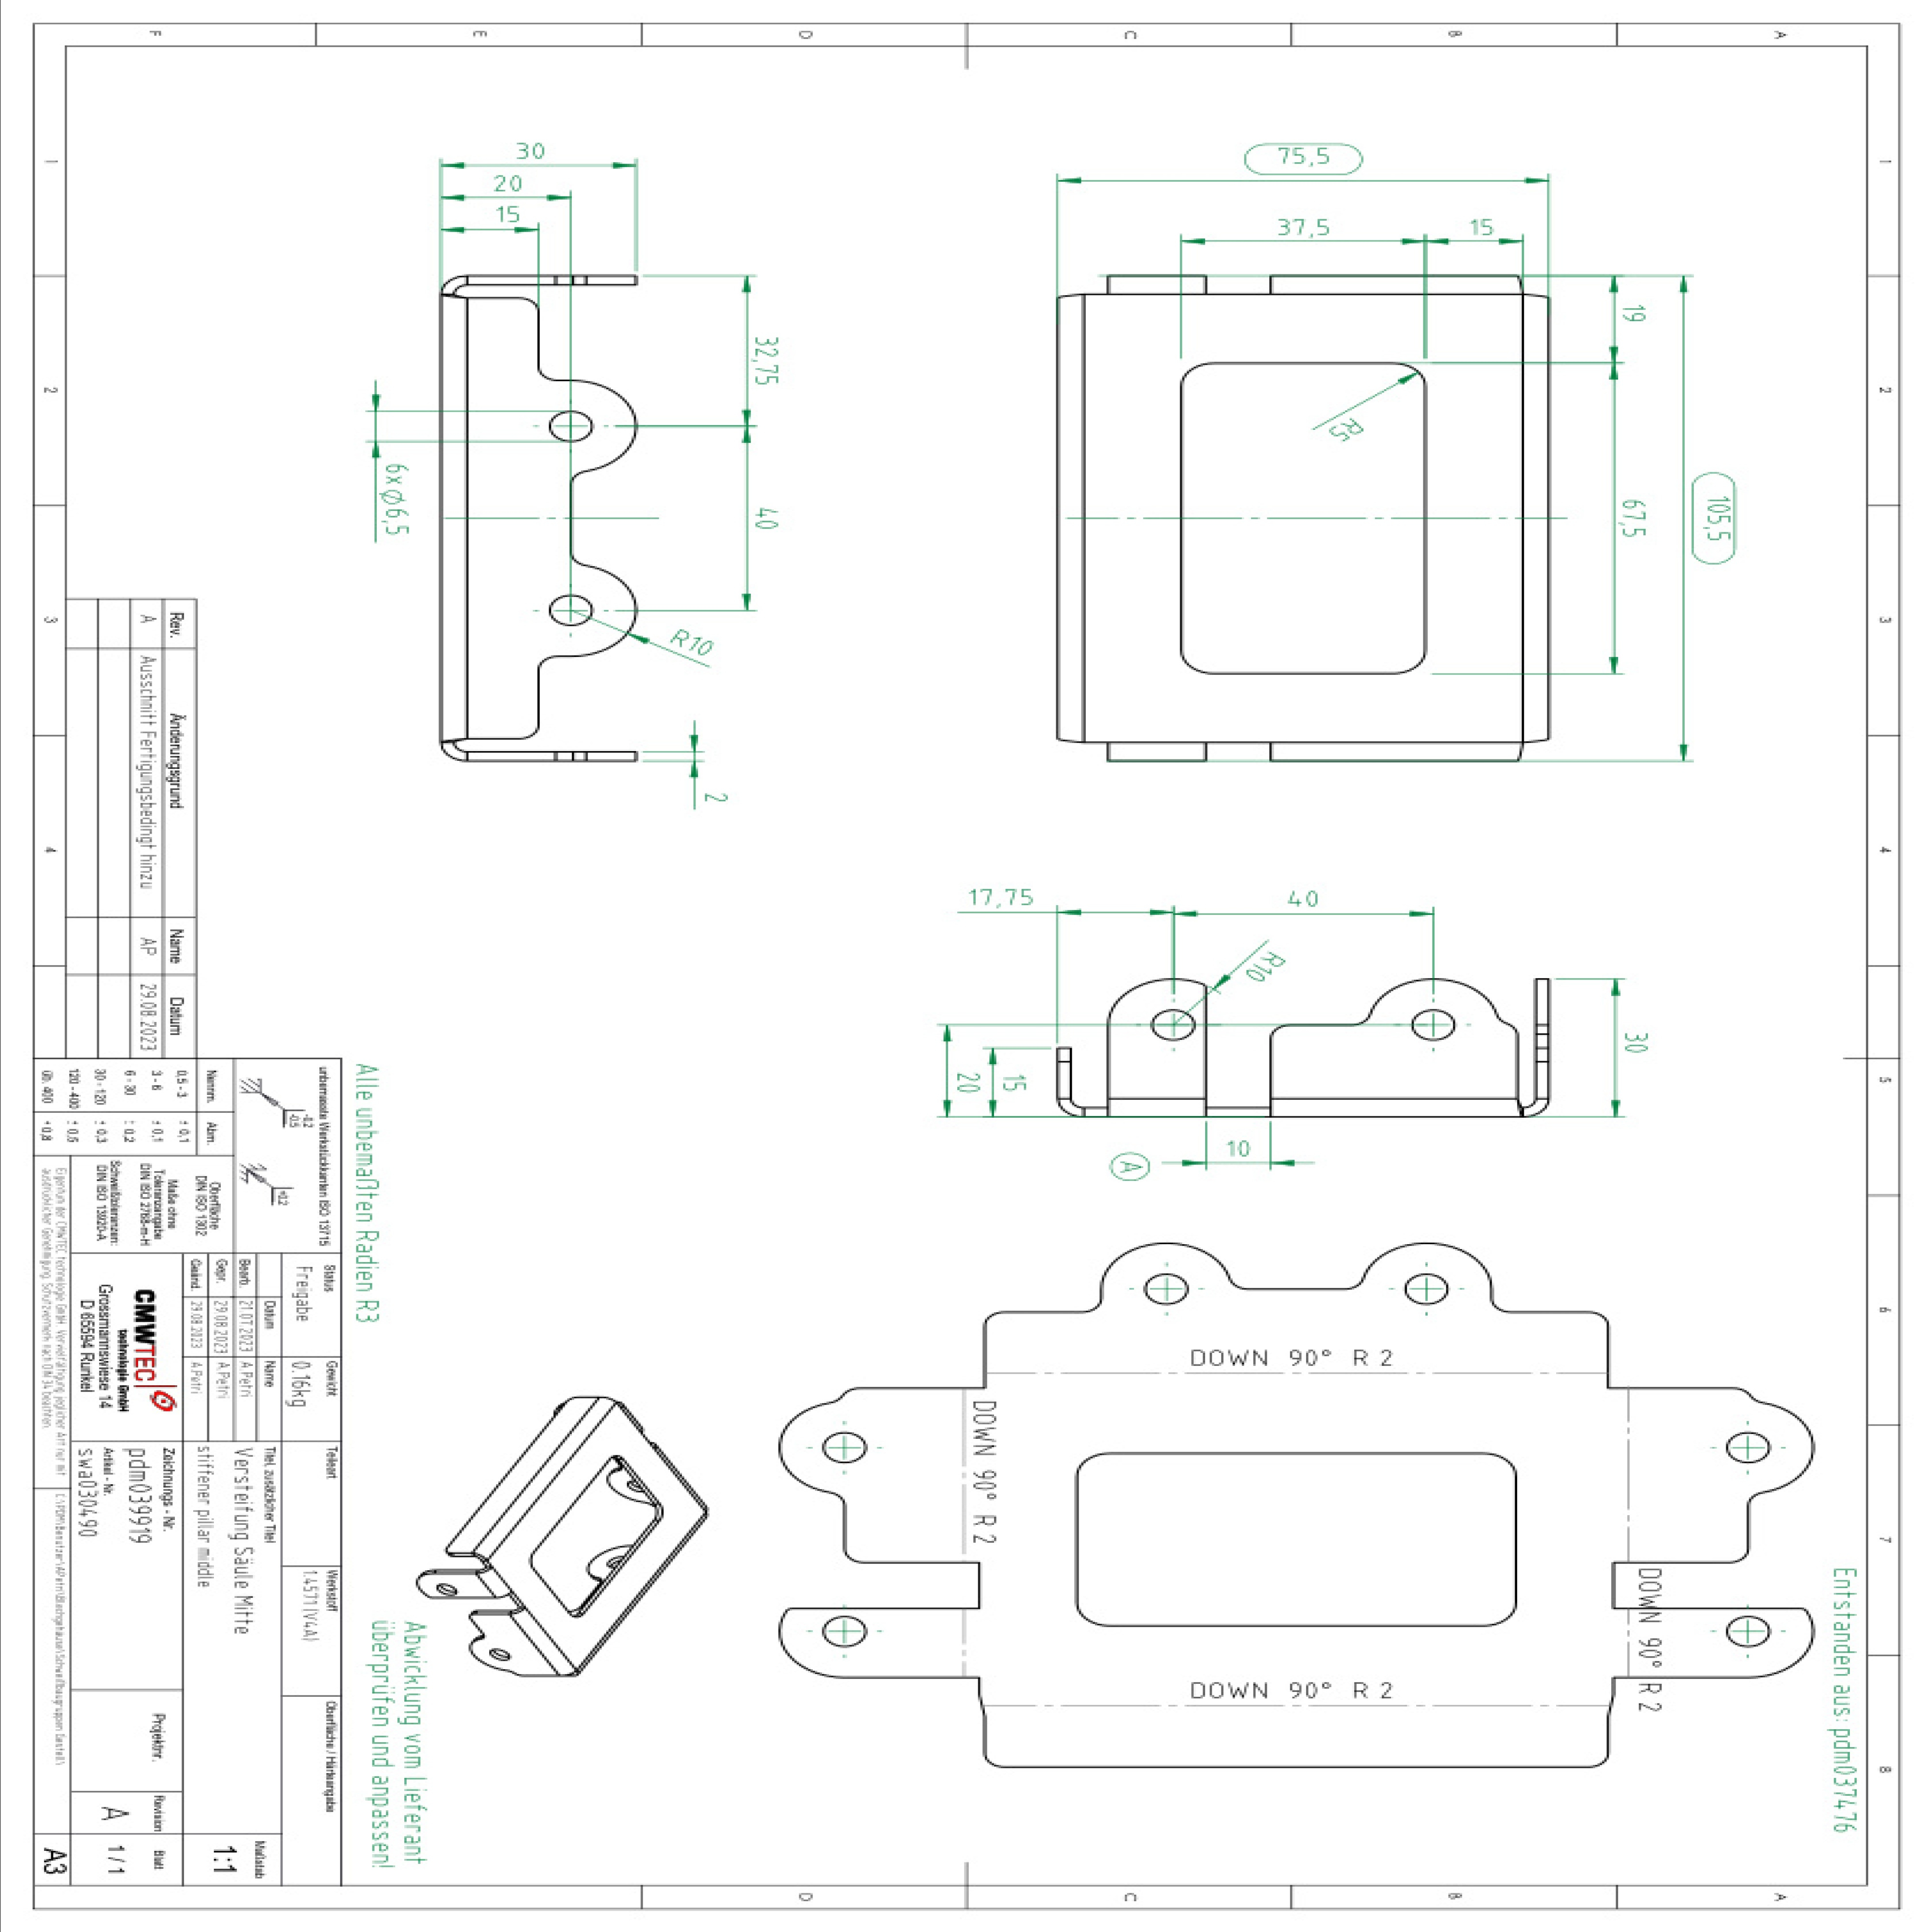BendingEdge: (437, 288, 472, 745)
BendingEdgeCurve: (438, 270, 470, 298), (1054, 1095, 1090, 1119), (439, 738, 470, 764), (1518, 1095, 1552, 1118)
InnerContour: (819, 1428, 873, 1467), (543, 409, 596, 445), (818, 1614, 871, 1649), (1724, 1426, 1772, 1466), (1139, 1272, 1190, 1307), (547, 591, 596, 627), (1402, 1273, 1451, 1308), (1148, 1007, 1197, 1042), (1408, 1010, 1458, 1044), (1725, 1613, 1773, 1648)
InnerContourAngular: (1064, 1443, 1534, 1639), (1175, 356, 1433, 683)
Notch: (1607, 1558, 1815, 1615), (781, 1557, 985, 1614), (1199, 981, 1278, 1111), (568, 445, 635, 591), (1202, 1244, 1391, 1294)
